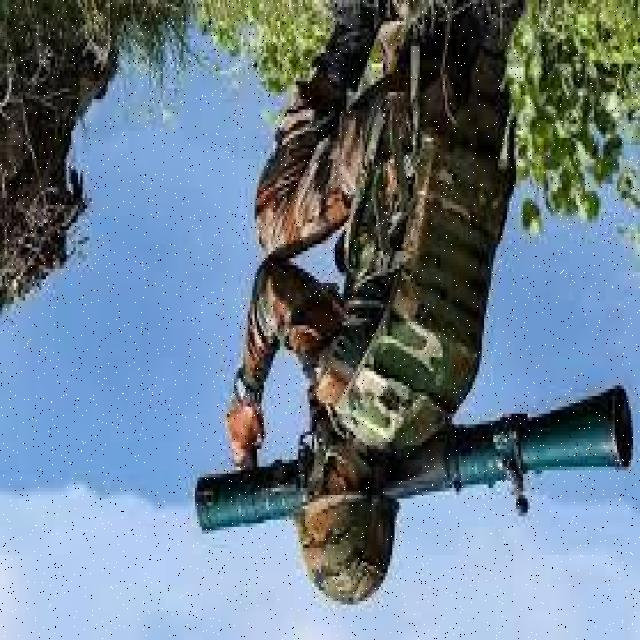bazooka: (185, 374, 640, 544)
